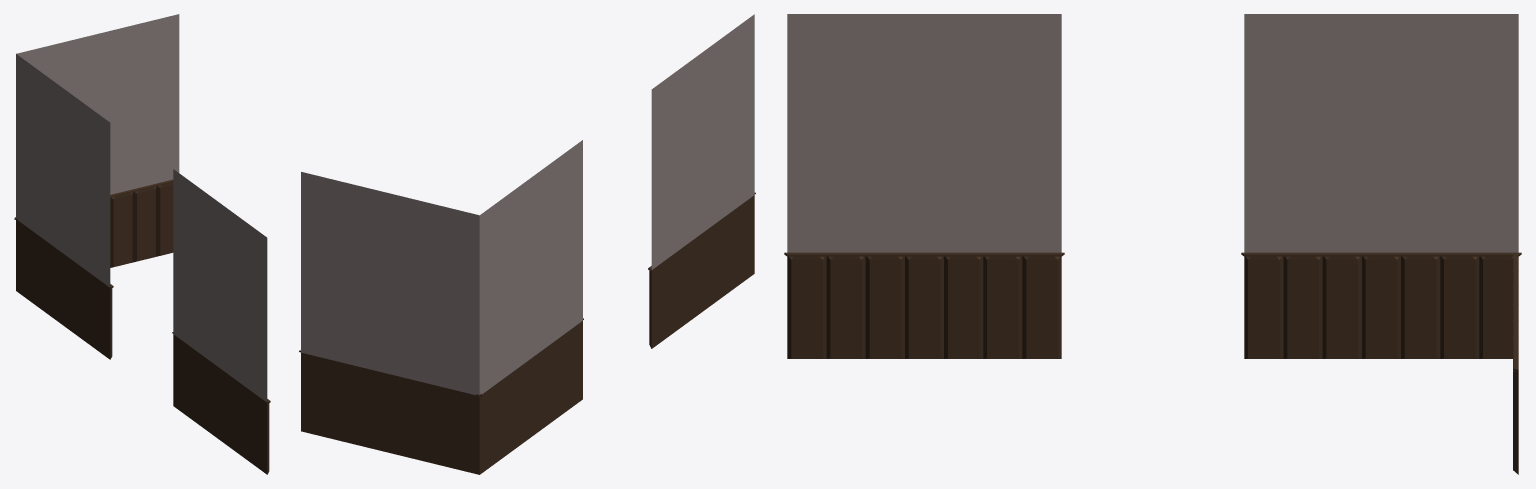
Rendered from yeanew.fbx.
3 renders of one model, left to right at view 1: azimuth 30°, elevation 25°; view 2: azimuth 150°, elevation 25°; view 3: azimuth 270°, elevation 25°, orthographic. The views are drawn at different scales.
Parts seen in each view (by area): view 1: Corner Wall, Wall; view 2: Corner Wall, Wall; view 3: Corner Wall, Wall.
Part boxes in pixels (<box>): Corner Wall: <box>14,14,179,359</box>; Wall: <box>172,169,270,474</box>; Corner Wall: <box>299,140,583,474</box>; Wall: <box>648,14,755,348</box>; Corner Wall: <box>1241,14,1521,474</box>; Wall: <box>784,14,1064,358</box>.
Bounding box in the file's own units: 184 × 250 × 484.
